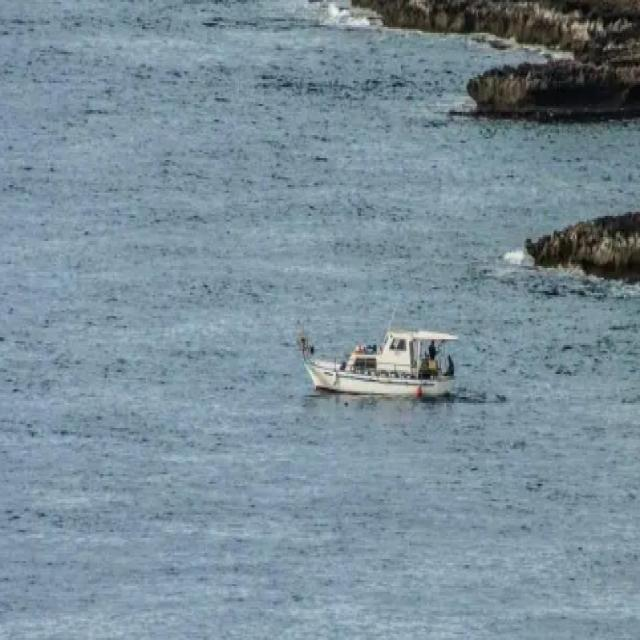houseboat: (298, 315, 458, 394)
